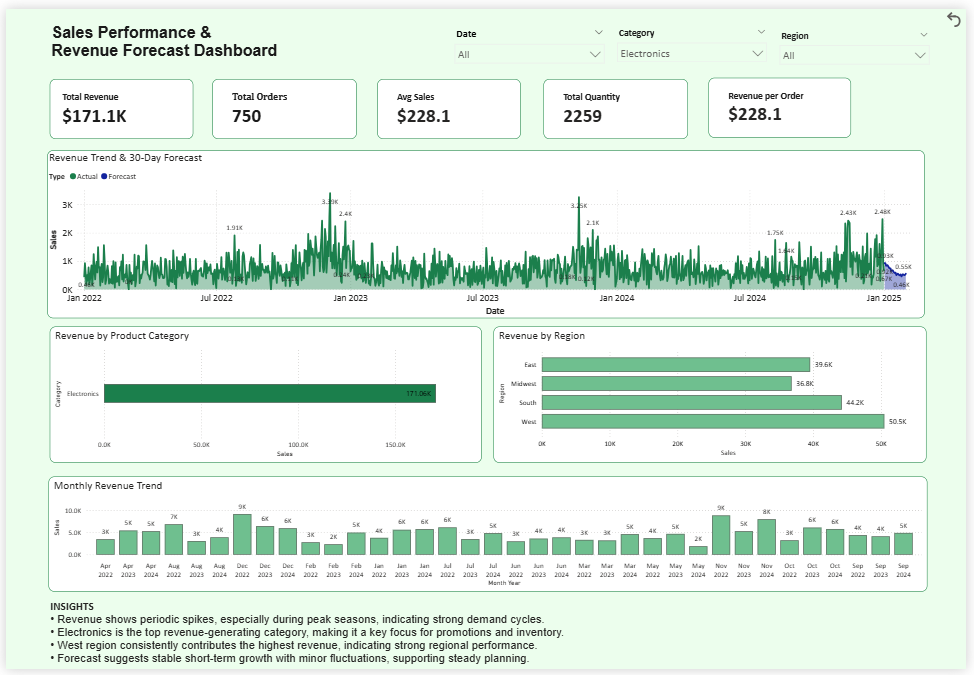

The page's visual inventory and layout, read from the dashboard file:
{"tool":"powerbi","page":{"name":"Page 1","canvas":[1600,1100],"ordinal":0},"visuals":[{"type":"cardVisual","fields":{"Data":["Dax Measure Table.Total Revenue"]},"box":[73.5,117.4,239.1,100],"z":0},{"type":"cardVisual","fields":{"Data":["Dax Measure Table.Total Orders"]},"box":[343.8,117.4,240.6,100],"z":1000},{"type":"cardVisual","fields":{"Data":["Dax Measure Table.Avg Sales"]},"box":[619.2,115.9,239.1,100],"z":2000},{"type":"slicer","fields":{"Values":["sales_data_intermediate.date"]},"box":[737.5,25.6,270,75],"z":3000},{"type":"slicer","fields":{"Values":["sales_data_intermediate.category"]},"box":[1007.5,25.6,270,75],"z":4000},{"type":"slicer","fields":{"Values":["sales_data_intermediate.region"]},"box":[1280,28.1,270,72.5],"z":5000},{"type":"lineChart","title":"Revenue Trend & 30-Day Forecast","fields":{"Category":["Append1.date"],"Y":["Sum(Append1.sales)"],"Series":["Append1.Type"]},"box":[68.6,235.3,1462.7,280.4],"z":6000},{"type":"clusteredBarChart","title":"Revenue by Product Category","fields":{"Category":["sales_data_intermediate.category"],"Y":["Sum(sales_data_intermediate.sales)"]},"box":[73.9,529.7,719.6,227.5],"z":7000},{"type":"columnChart","title":"Monthly Revenue Trend","fields":{"Category":["Date Table.Month Year"],"Y":["Sum(sales_data_intermediate.sales)"]},"box":[70.6,778.4,1464.7,192.2],"z":8000},{"type":"barChart","title":"Revenue by Region","fields":{"Category":["sales_data_intermediate.region"],"Y":["Sum(sales_data_intermediate.sales)"]},"box":[813,530.1,721.6,227],"z":9000},{"type":"cardVisual","fields":{"Data":["Dax Measure Table.Revenue per Order"]},"box":[1169.9,114.5,237.7,100],"z":10000},{"type":"cardVisual","fields":{"Data":["Dax Measure Table.Total Quantity"]},"box":[896,115.9,240.6,100],"z":11000},{"type":"actionButton","box":[1562.7,0,37.3,34.7],"z":12000},{"type":"textbox","box":[69,978.6,1459.5,121.4],"z":13000},{"type":"textbox","box":[71.2,18.8,542.5,93.8],"z":14001}]}

Visuals, with their boxes in screenshot pixels (x1, y1, x2, y2), scaled from the page's 1600x1100 canvas onto the 974x675 screenshot:
cardVisual - Dax Measure Table.Total Revenue: bbox=(45, 72, 190, 133)
cardVisual - Dax Measure Table.Total Orders: bbox=(209, 72, 356, 133)
cardVisual - Dax Measure Table.Avg Sales: bbox=(377, 71, 522, 132)
slicer - sales_data_intermediate.date: bbox=(449, 16, 613, 62)
slicer - sales_data_intermediate.category: bbox=(613, 16, 778, 62)
slicer - sales_data_intermediate.region: bbox=(779, 17, 944, 62)
"Revenue Trend & 30-Day Forecast" lineChart: bbox=(42, 144, 932, 316)
"Revenue by Product Category" clusteredBarChart: bbox=(45, 325, 483, 465)
"Monthly Revenue Trend" columnChart: bbox=(43, 478, 935, 596)
"Revenue by Region" barChart: bbox=(495, 325, 934, 465)
cardVisual - Dax Measure Table.Revenue per Order: bbox=(712, 70, 857, 132)
cardVisual - Dax Measure Table.Total Quantity: bbox=(545, 71, 692, 132)
actionButton: bbox=(951, 0, 973, 21)
textbox: bbox=(42, 601, 930, 674)
textbox: bbox=(43, 12, 374, 69)
